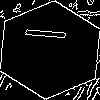I: (25, 25, 77, 43)
